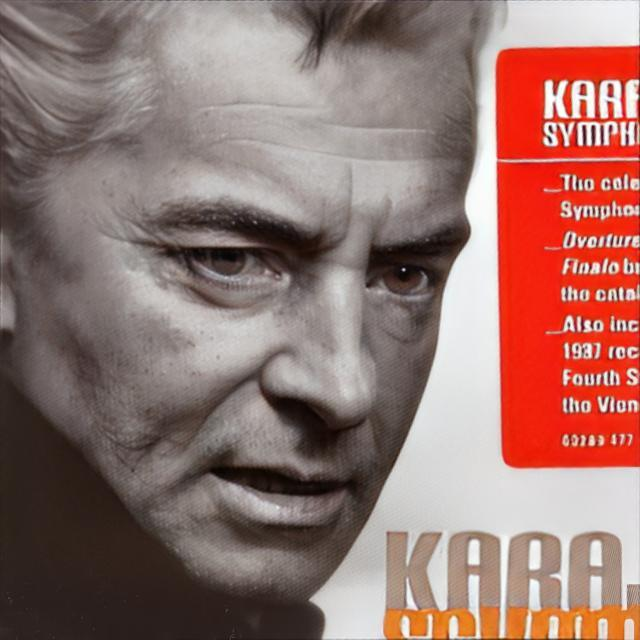anger: (43, 35, 476, 593)
